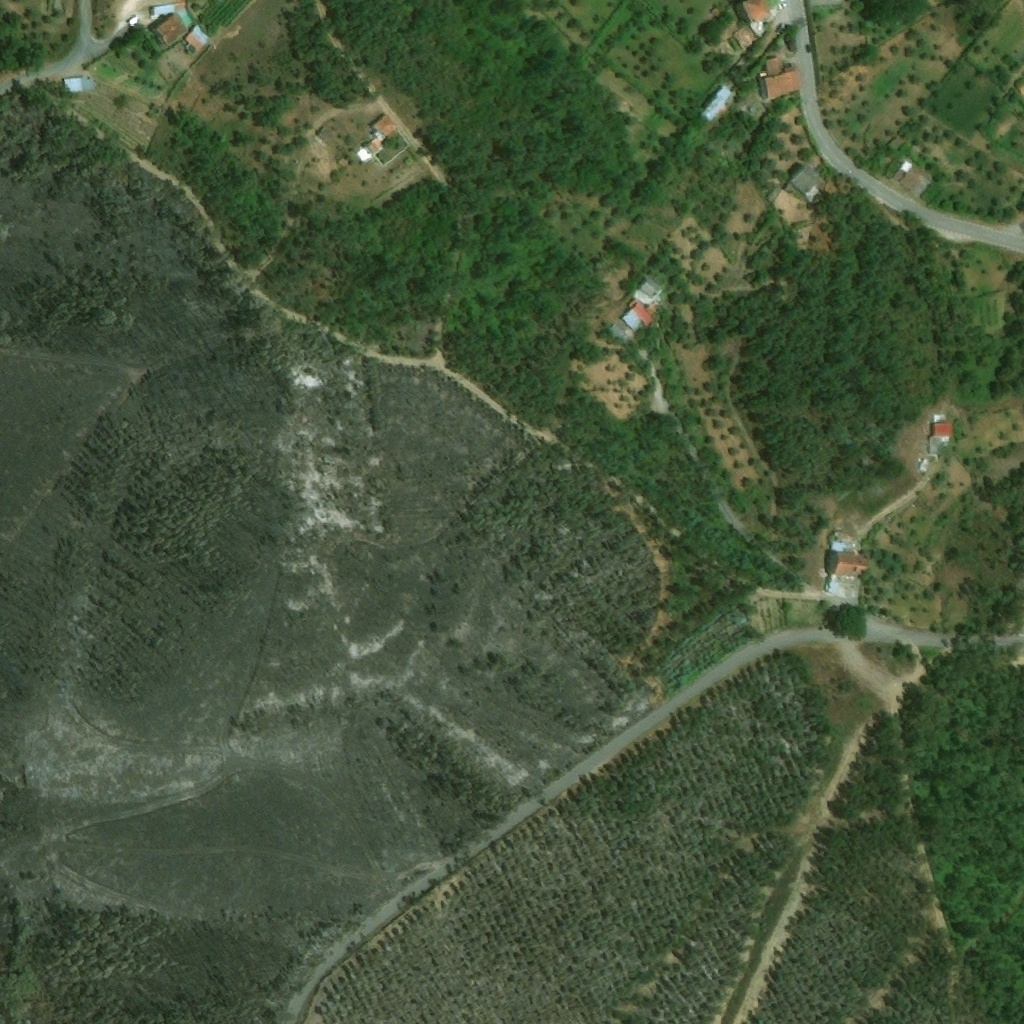0 no-damage: (758, 56, 802, 101), (148, 12, 192, 51), (779, 165, 824, 203), (697, 86, 734, 125), (366, 115, 398, 156), (887, 161, 924, 194), (618, 299, 653, 333), (830, 552, 869, 577), (182, 26, 211, 56), (741, 0, 771, 24), (731, 25, 755, 52), (149, 2, 185, 17), (62, 77, 91, 93), (715, 24, 738, 44), (637, 279, 659, 298), (929, 421, 952, 437), (830, 532, 849, 551), (315, 127, 333, 145), (927, 437, 939, 455), (825, 582, 839, 596)
